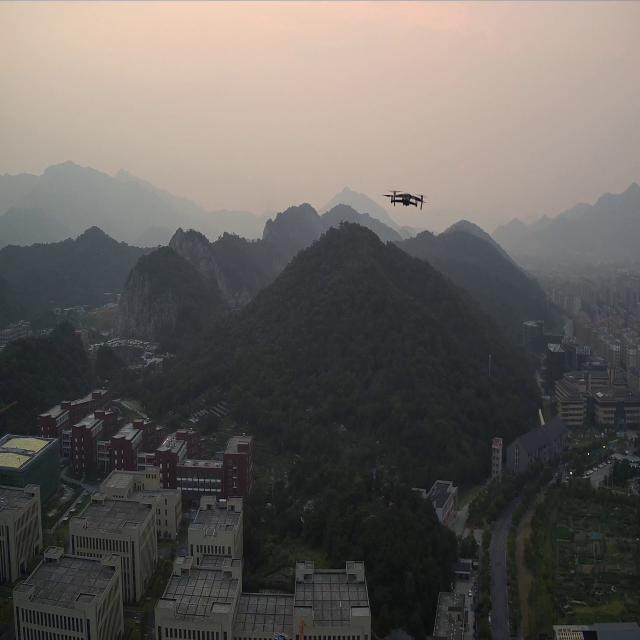UAV: (389, 187, 425, 212)
